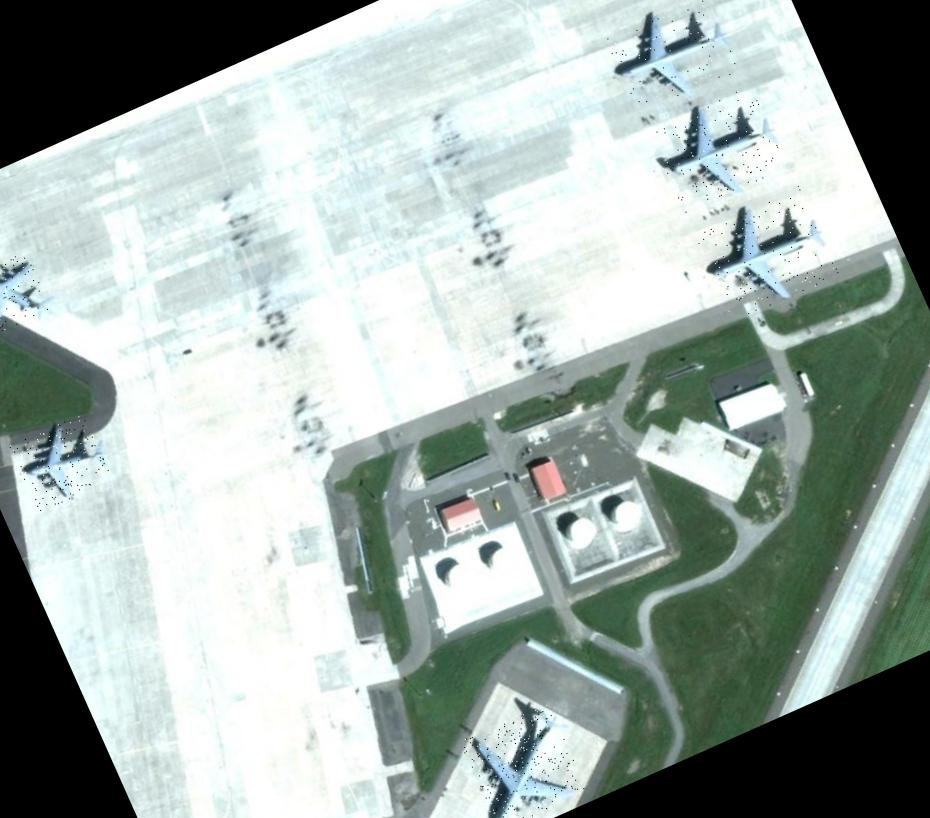A3: (9, 412, 115, 512), (0, 249, 52, 333)
A4: (694, 184, 842, 323), (649, 83, 790, 213), (603, 0, 743, 115), (458, 701, 588, 818)
